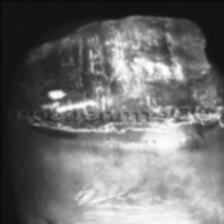Toxin: (16, 11, 214, 135)
